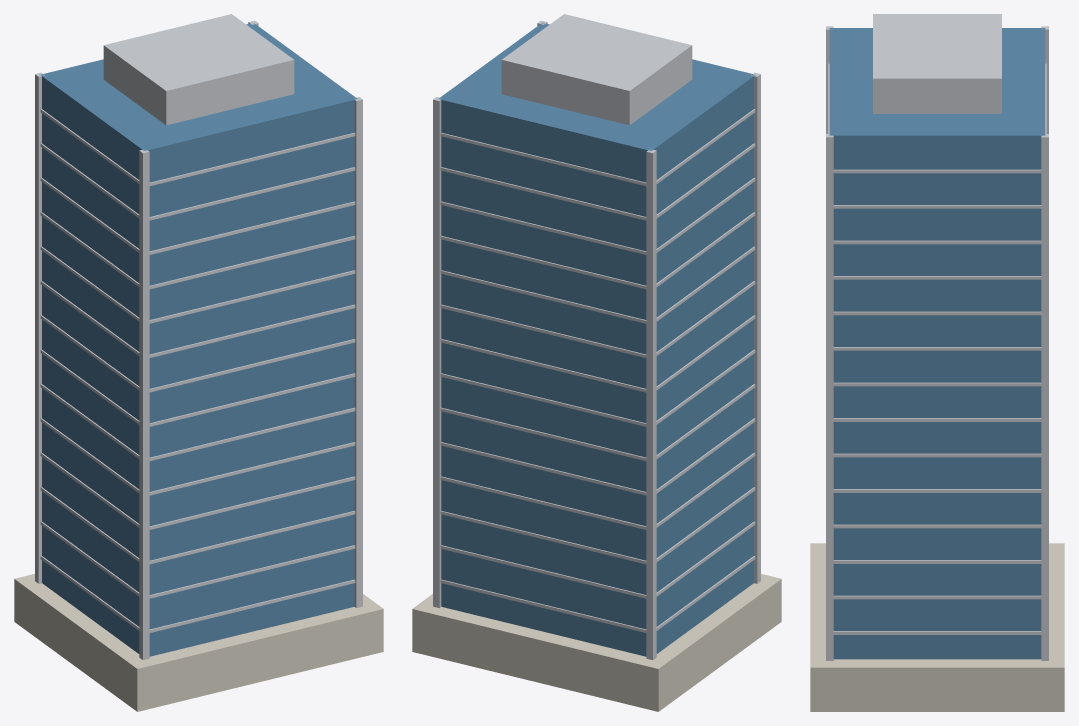
Rendered from office_tower.glb.
The picture shows the model from 3 angles, left to right: view 1: azimuth 30°, elevation 25°; view 2: azimuth 150°, elevation 25°; view 3: azimuth 270°, elevation 25°; orthographic projection. The views are drawn at different scales.
Parts seen in each view (by area): view 1: tower; view 2: tower; view 3: tower.
Boxes of the visible parts, bbox=[...] form: tower: bbox=[14, 14, 383, 711]; tower: bbox=[412, 14, 781, 711]; tower: bbox=[810, 14, 1064, 711].
Size of the model in its own units: 30 by 68 by 26.
